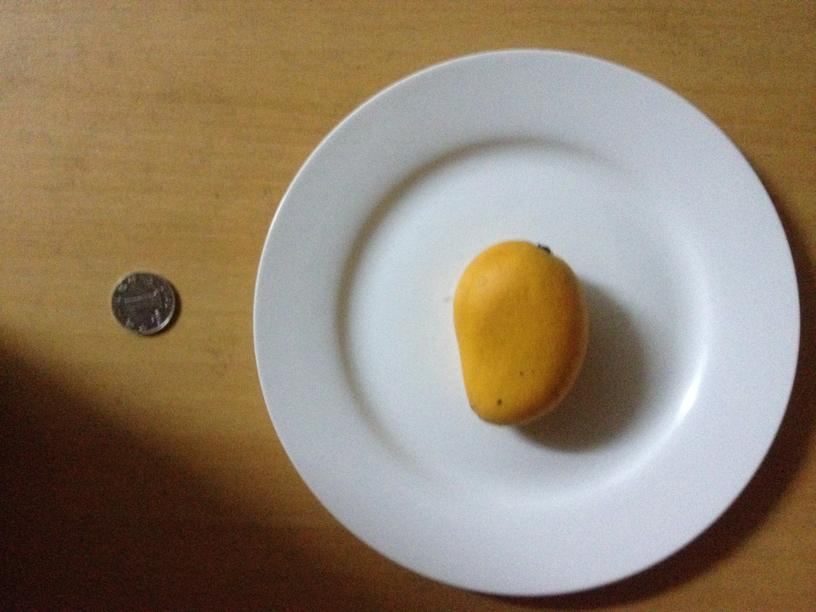coin: (107, 268, 180, 336)
mango: (453, 240, 585, 427)
